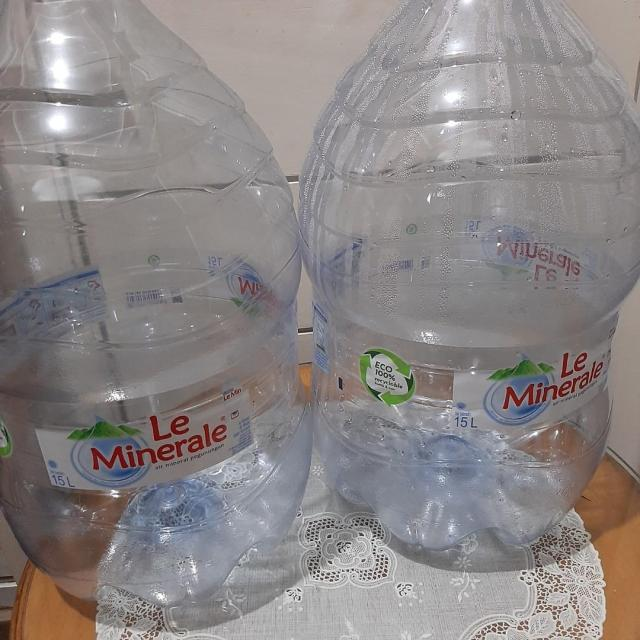Galon: (0, 0, 313, 608), (297, 0, 639, 554)
